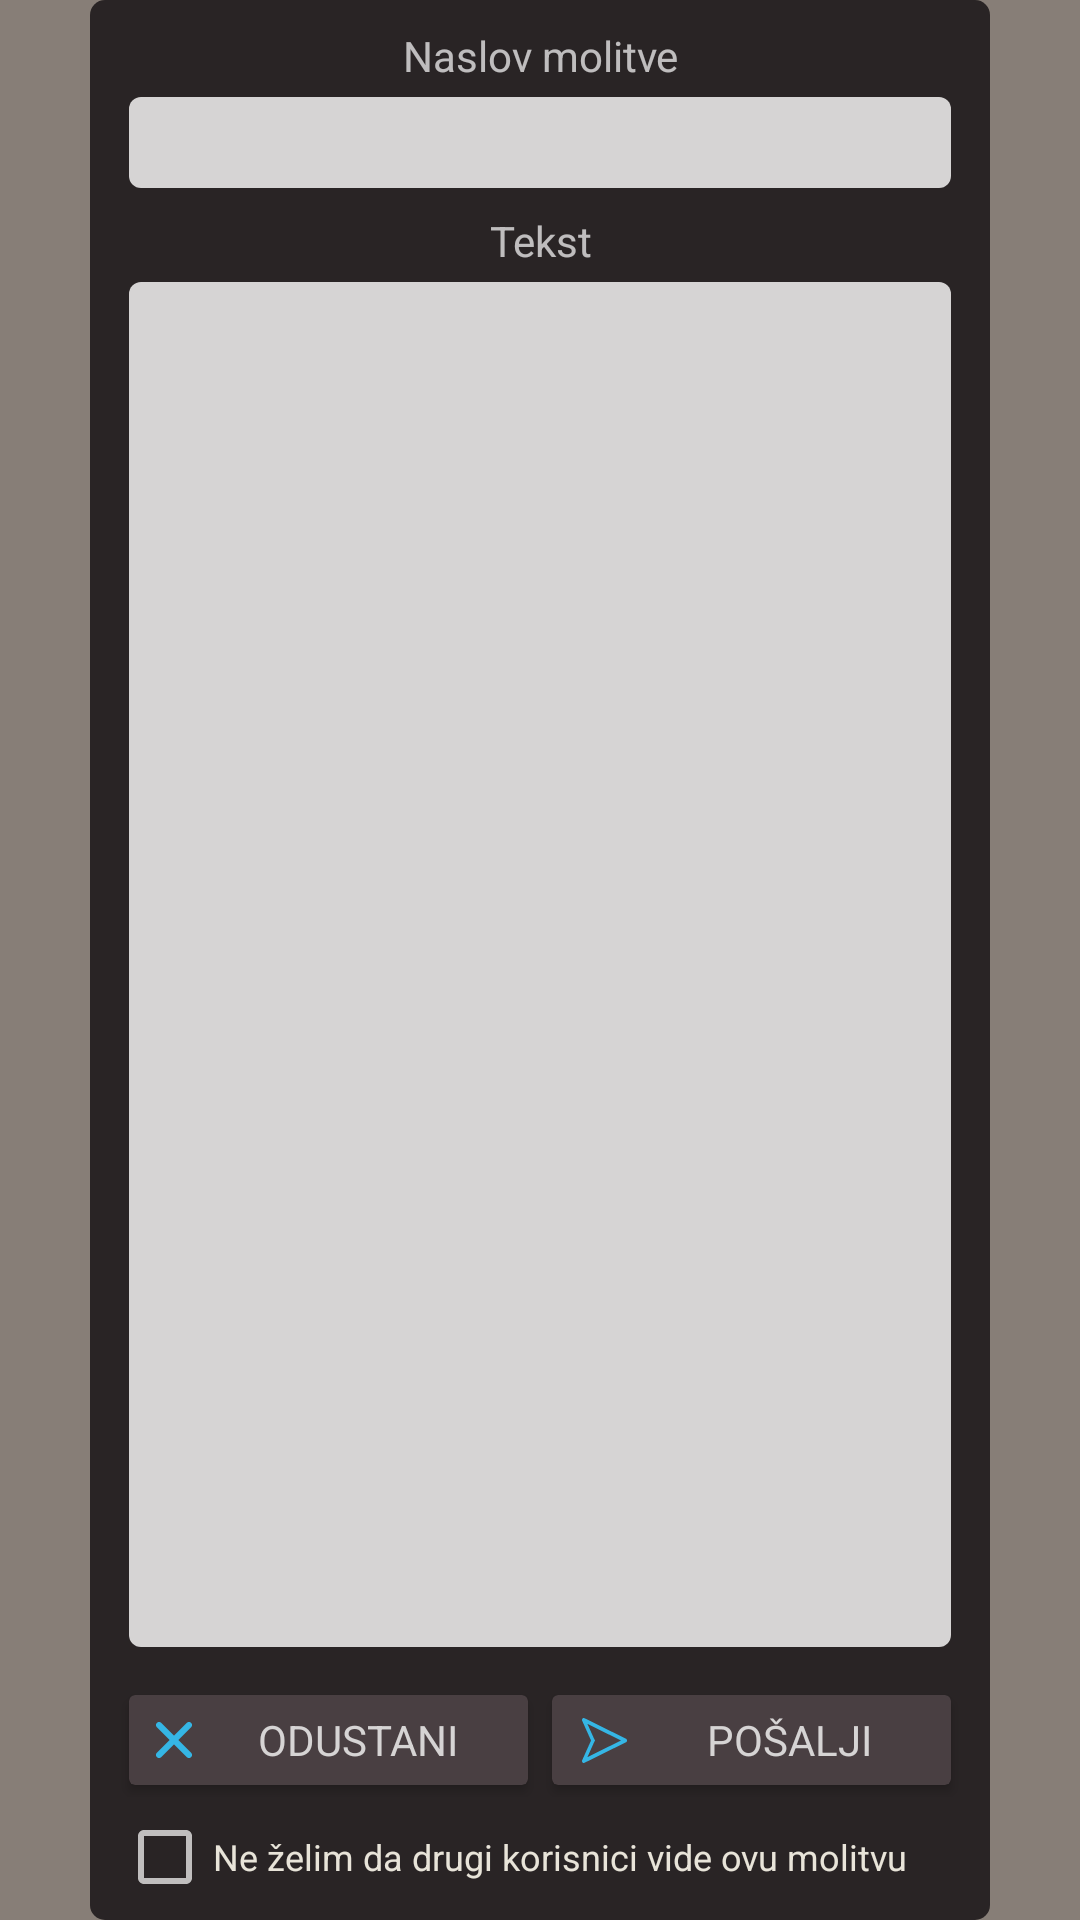

Icons on this 1080px x 1920px Android screen, each with the point to tap as [x,y]:
post prayer: [604,1740]
quit: [174,1740]
